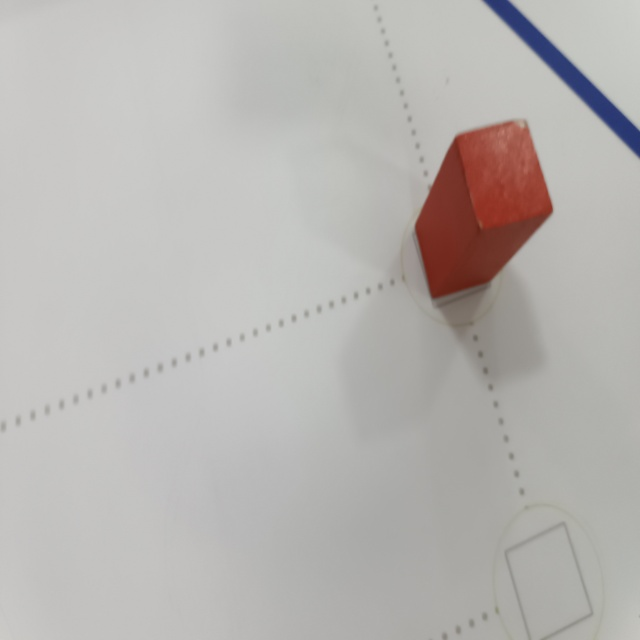blue line: (482, 0, 640, 156)
red rectangular prism: (416, 119, 549, 301)
